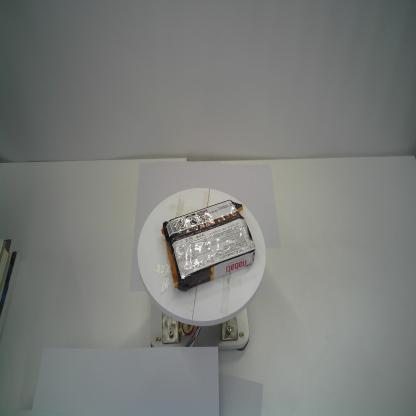Dessert: (160, 198, 258, 292)
